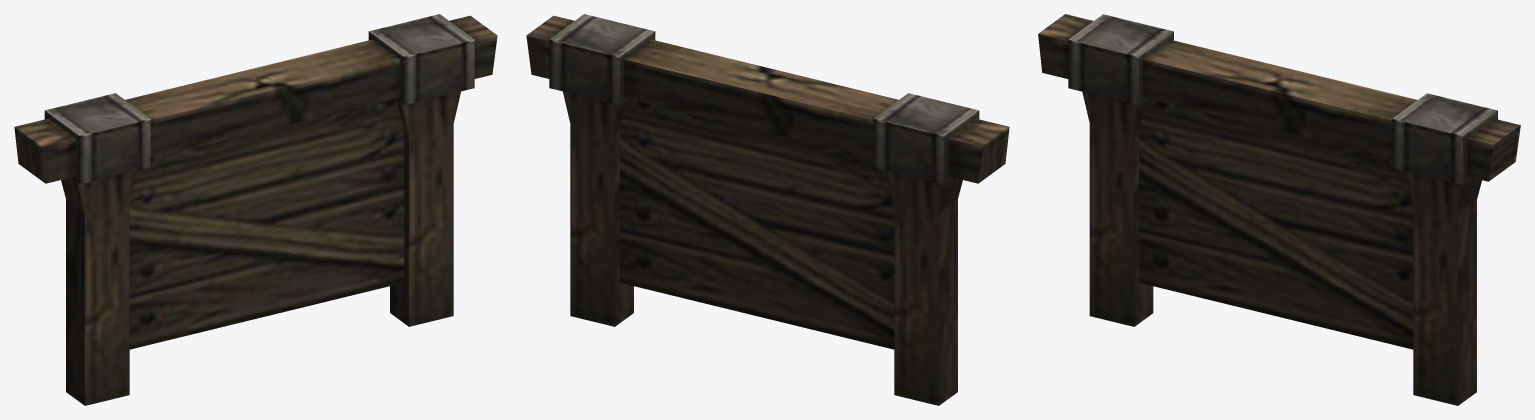
The model's file is Treasure_Enclosure_02.FBX.
3 renders of one model, left to right at view 1: azimuth 30°, elevation 25°; view 2: azimuth 150°, elevation 25°; view 3: azimuth 330°, elevation 25°, orthographic.
Parts seen in each view (by area): view 1: Treasure_Enclosure_02; view 2: Treasure_Enclosure_02; view 3: Treasure_Enclosure_02.
Part boxes in pixels (x1,y1,x2,y2): Treasure_Enclosure_02: (14, 14, 497, 405); Treasure_Enclosure_02: (526, 14, 1009, 405); Treasure_Enclosure_02: (1038, 14, 1520, 405).
Size of the model in its own units: 2.08 by 1.22 by 0.2751.
